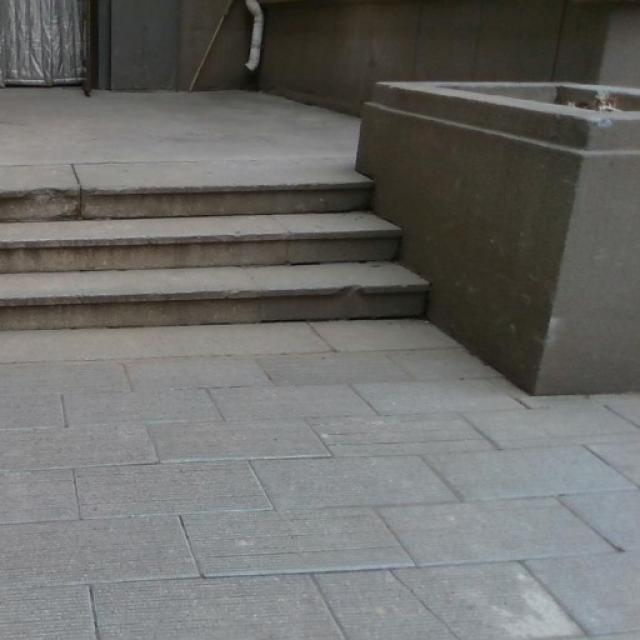Stairs: (0, 178, 431, 330)
